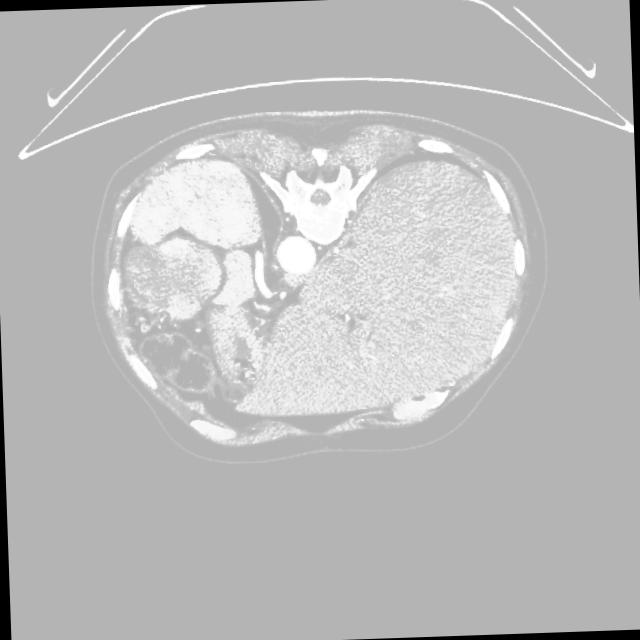TUMOR: (103, 175, 274, 441)
